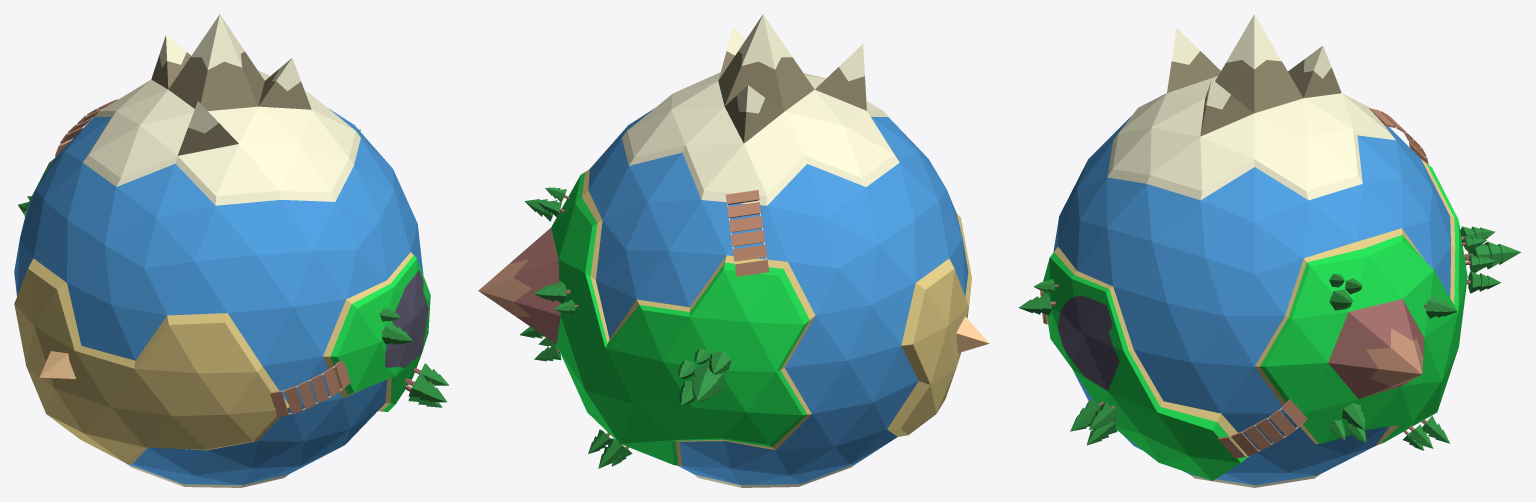
3 views of the same model, side by side, from view 1: azimuth 30°, elevation 25°; view 2: azimuth 150°, elevation 25°; view 3: azimuth 270°, elevation 25° (orthographic).
Parts seen in each view (by area): view 1: Planet, Cube.002, Cone.002, Cylinder.007, Cube; view 2: Planet, Cube, Cone.236, Cone.002; view 3: Planet, Cube.001, Cone.236, Cube.
Boxes of the visible parts, x1,y1,x2,y2 form: Planet: (14, 14, 430, 487); Cube.002: (270, 360, 350, 417); Cone.002: (39, 351, 75, 378); Cylinder.007: (404, 373, 447, 402); Cube: (55, 99, 118, 156); Planet: (478, 14, 971, 487); Cube: (726, 190, 769, 276); Cone.236: (692, 362, 724, 401); Cone.002: (956, 316, 989, 352); Planet: (1043, 14, 1467, 487); Cube.001: (1218, 399, 1307, 458); Cone.236: (1464, 241, 1520, 272); Cube: (1369, 108, 1428, 164).
Size of the model in its own units: 226 by 245 by 245.
